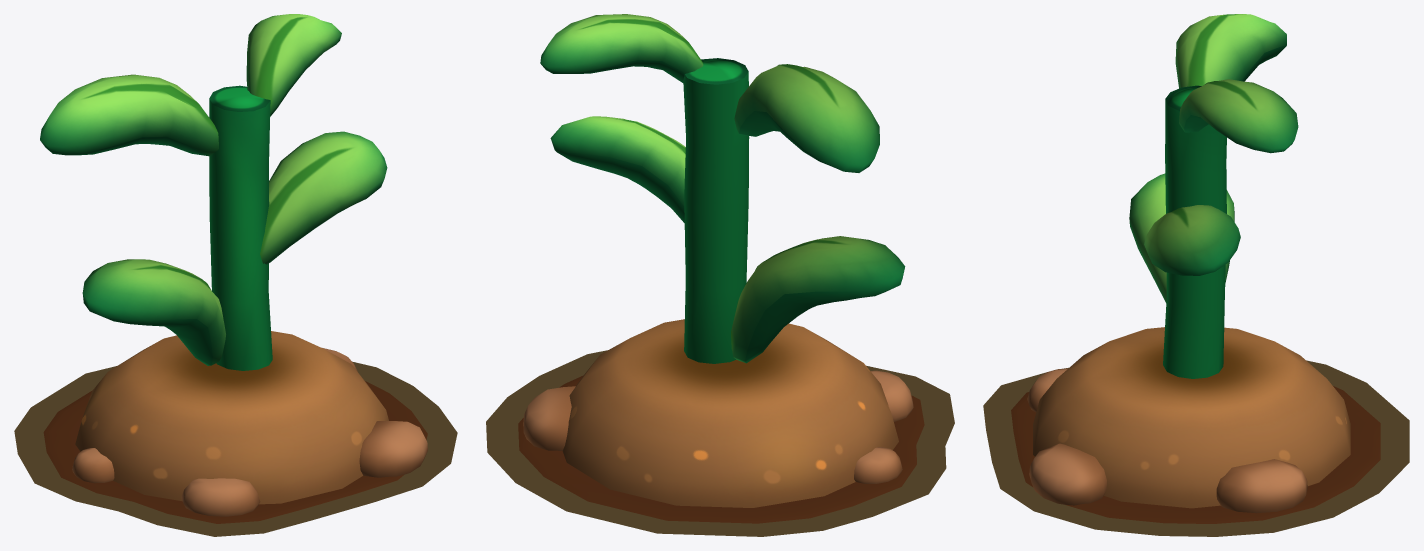
File: Corn_L01.fbx
The picture shows the model from 3 angles, left to right: view 1: azimuth 30°, elevation 25°; view 2: azimuth 150°, elevation 25°; view 3: azimuth 270°, elevation 25°; orthographic projection. The views are drawn at different scales.
Parts seen in each view (by area): view 1: Corn01_body, Corn01SDW; view 2: Corn01_body, Corn01SDW; view 3: Corn01_body, Corn01SDW.
Boxes of the visible parts, <box> form: Corn01_body: <box>40,14,427,523</box>; Corn01SDW: <box>14,361,457,536</box>; Corn01_body: <box>518,14,924,523</box>; Corn01SDW: <box>486,350,954,536</box>; Corn01_body: <box>1011,14,1380,523</box>; Corn01SDW: <box>983,360,1409,536</box>.
Bounding box in the file's own units: 111 × 106 × 104.
2 materials, 1 textured.
